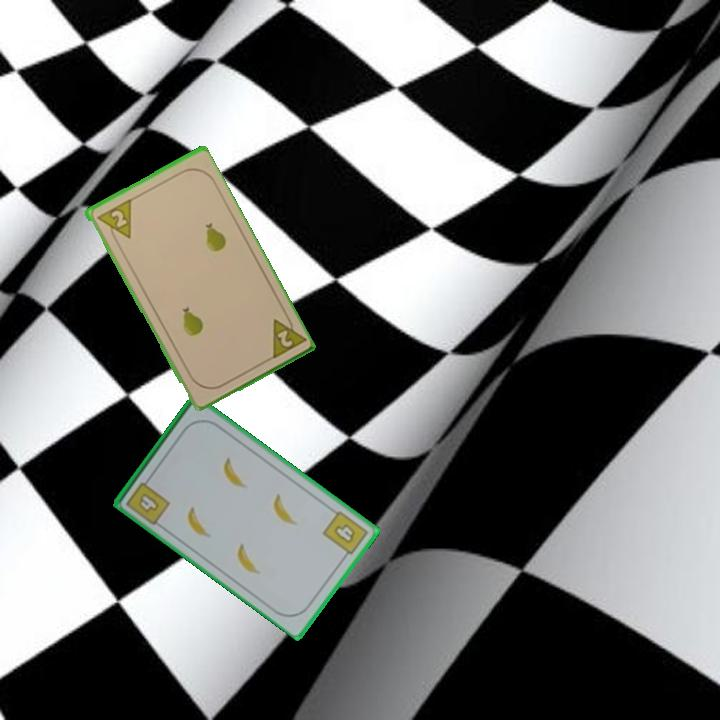2p: (92, 196, 134, 247), (273, 326, 295, 350)
4b: (319, 507, 371, 562), (122, 472, 173, 528)
